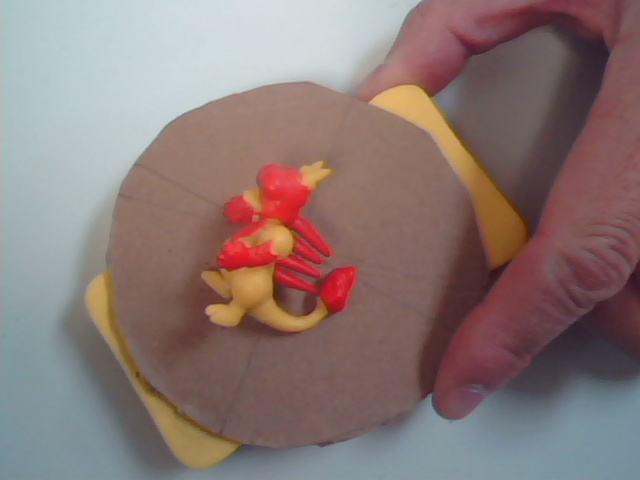magmar: (186, 164, 416, 375)
